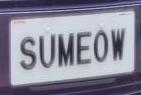0: (93, 26, 111, 69)
E: (75, 28, 95, 71)
M: (57, 30, 77, 73)
S: (17, 32, 39, 76)
U: (38, 32, 57, 74)
W: (110, 23, 128, 68)
